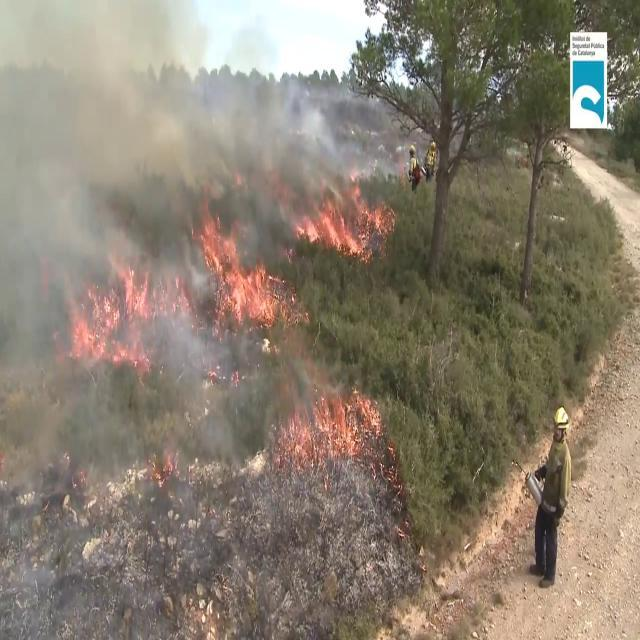Fire: (194, 200, 282, 334), (66, 248, 156, 374), (278, 376, 382, 464), (294, 192, 370, 264)
Smoke: (0, 0, 349, 436)
